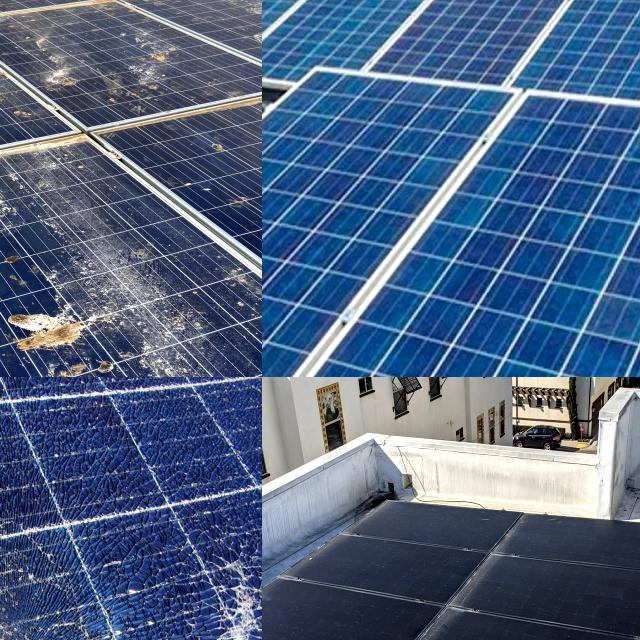bird: (0, 287, 144, 360), (0, 38, 70, 97), (130, 24, 184, 92), (37, 19, 70, 96), (0, 96, 49, 138), (0, 0, 31, 26)
crack: (262, 43, 640, 377), (262, 0, 640, 144), (387, 0, 640, 68)
dust: (507, 574, 640, 617), (263, 597, 392, 640), (327, 544, 440, 580)
hotspot: (221, 553, 262, 640)
